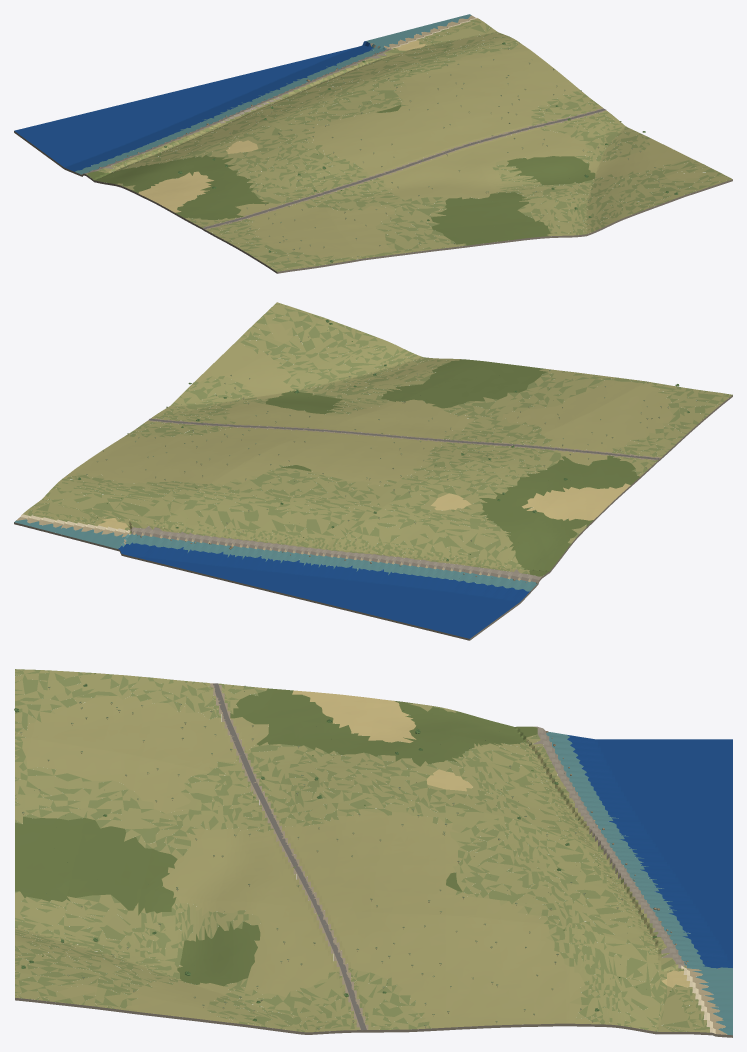
Rendered from parca_+2_+2-yakin.glb.
3 views of the same model, one above another, from view 1: azimuth 30°, elevation 25°; view 2: azimuth 150°, elevation 25°; view 3: azimuth 270°, elevation 25° (orthographic). The views are drawn at different scales.
Parts seen in each view (by area): view 1: parca_+2_+2_arazi, parca_+2_+2_yollar, parca_+2_+2_bitkiler; view 2: parca_+2_+2_arazi, parca_+2_+2_yollar, parca_+2_+2_bitkiler; view 3: parca_+2_+2_arazi, parca_+2_+2_yollar, parca_+2_+2_bitkiler.
Boxes of the visible parts, x1,y1,x2,y2 form: parca_+2_+2_arazi: (14, 14, 732, 273); parca_+2_+2_yollar: (203, 108, 605, 229); parca_+2_+2_bitkiler: (120, 42, 677, 262); parca_+2_+2_arazi: (14, 302, 732, 640); parca_+2_+2_yollar: (149, 418, 659, 459); parca_+2_+2_bitkiler: (58, 319, 702, 573); parca_+2_+2_arazi: (15, 669, 732, 1037); parca_+2_+2_yollar: (213, 683, 366, 1030); parca_+2_+2_bitkiler: (14, 673, 670, 1030).
Bounding box in the file's own units: 1002 × 112 × 1001.
